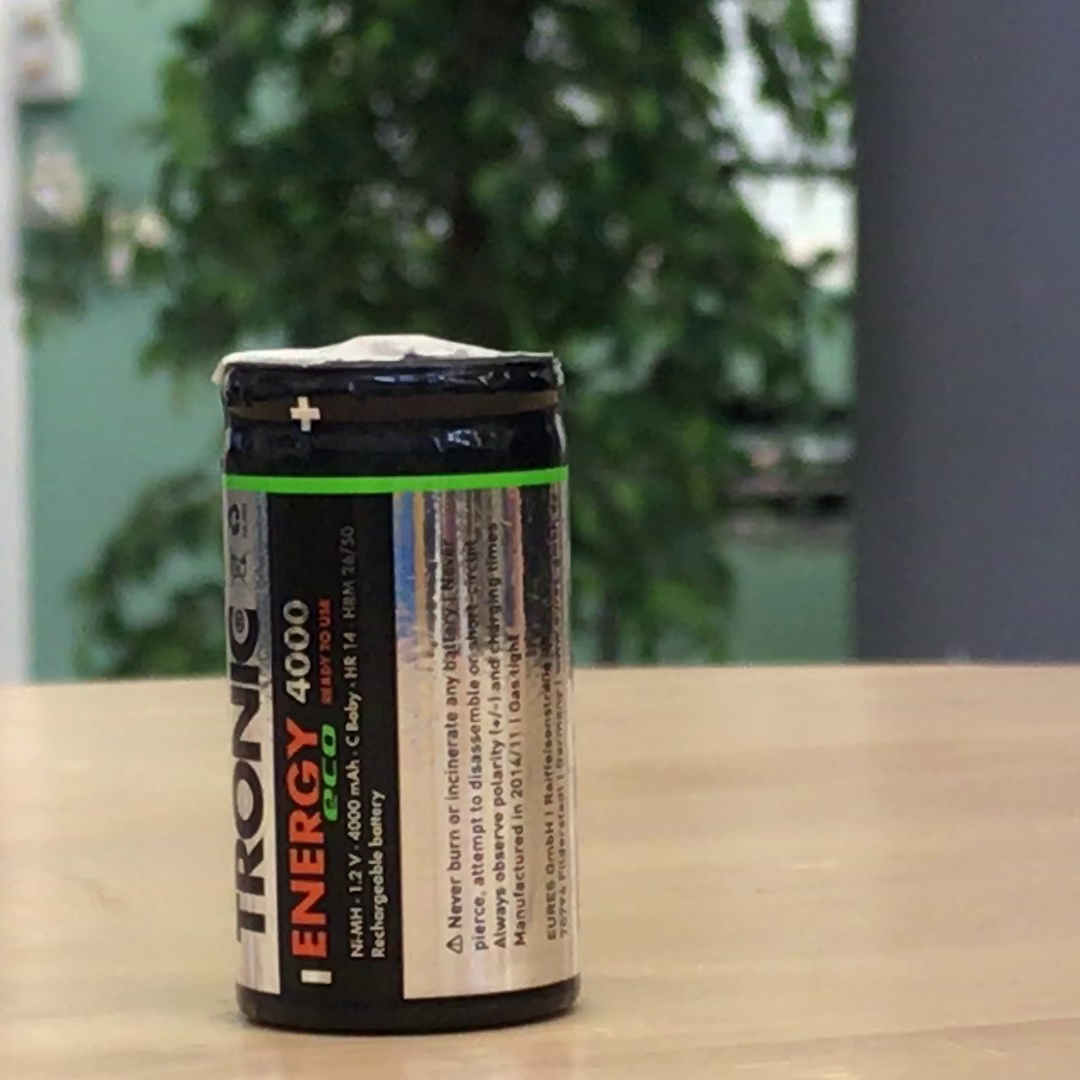keyword: (341, 903, 372, 966), (340, 845, 371, 901)
